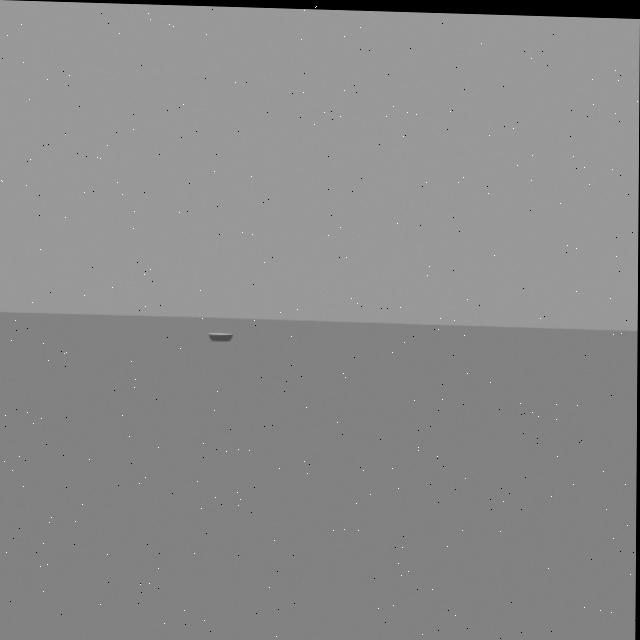bowl: (205, 320, 238, 347)
